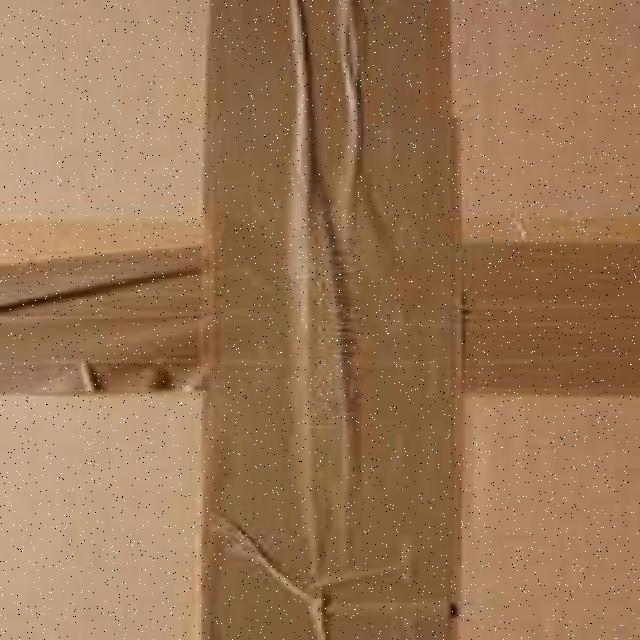normal: (1, 4, 638, 638)
